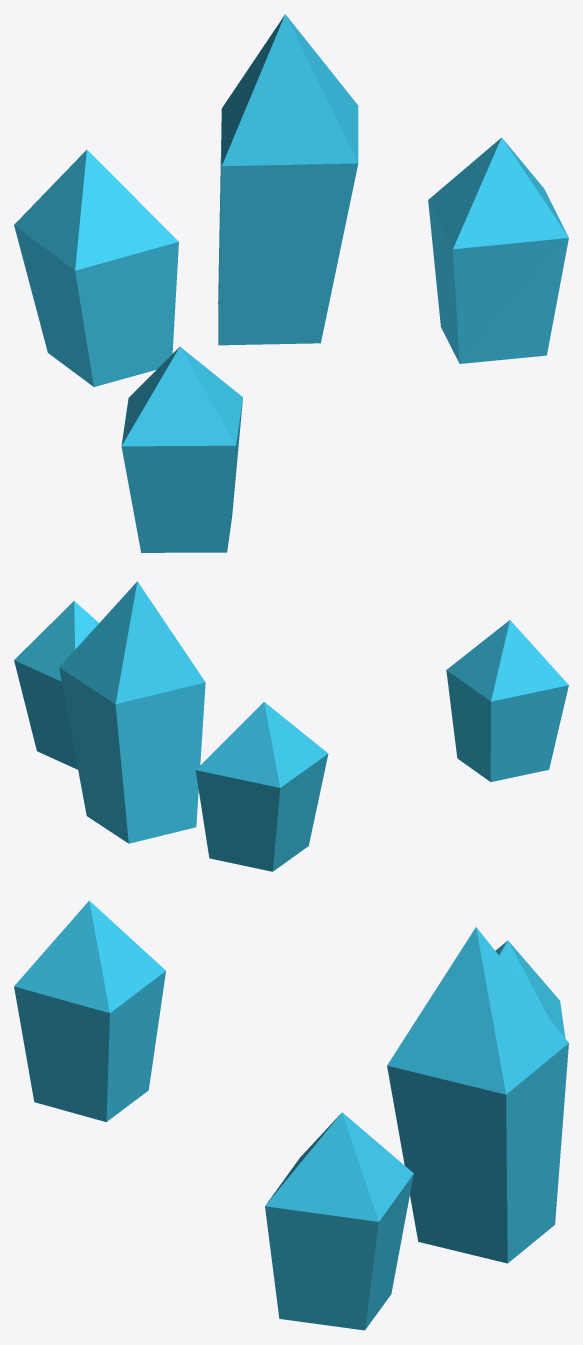
The model's file is crystal_aqua_3.obj.
The picture shows the model from 3 angles, top to bottom: view 1: azimuth 30°, elevation 25°; view 2: azimuth 150°, elevation 25°; view 3: azimuth 270°, elevation 25°; orthographic projection. The views are drawn at different scales.
Parts seen in each view (by area): view 1: s016, s017, s014, s015; view 2: s016, s017, s015, s014; view 3: s016, s015, s014, s017.
Part boxes in pixels (x1,y1,x2,y2): s016: (218,14,358,345); s017: (14,150,178,386); s014: (428,137,568,363); s015: (121,347,242,552); s016: (59,581,205,843); s017: (195,702,328,871); s015: (446,620,568,781); s014: (14,601,98,769); s016: (387,927,568,1263); s015: (14,900,165,1122); s014: (265,1112,413,1330); s017: (495,940,565,1037).
Bounding box in the file's own units: 0.8279 × 0.4254 × 0.6865.
